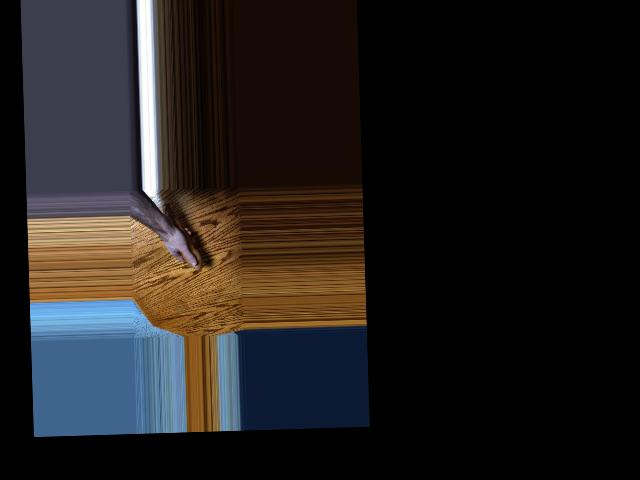sweet_potato: (161, 200, 201, 268)
